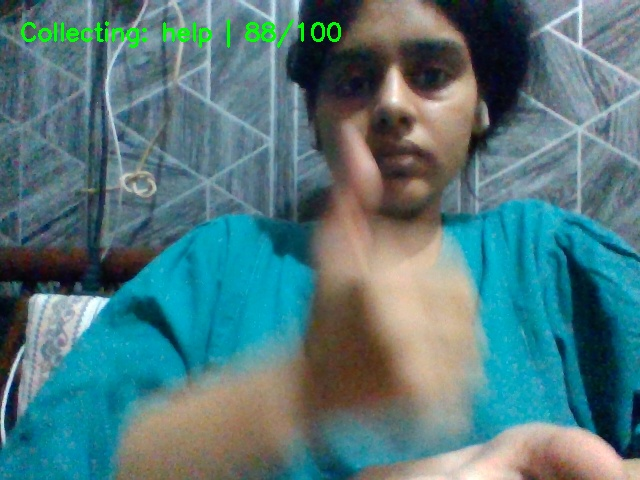help: (269, 122, 640, 480)
